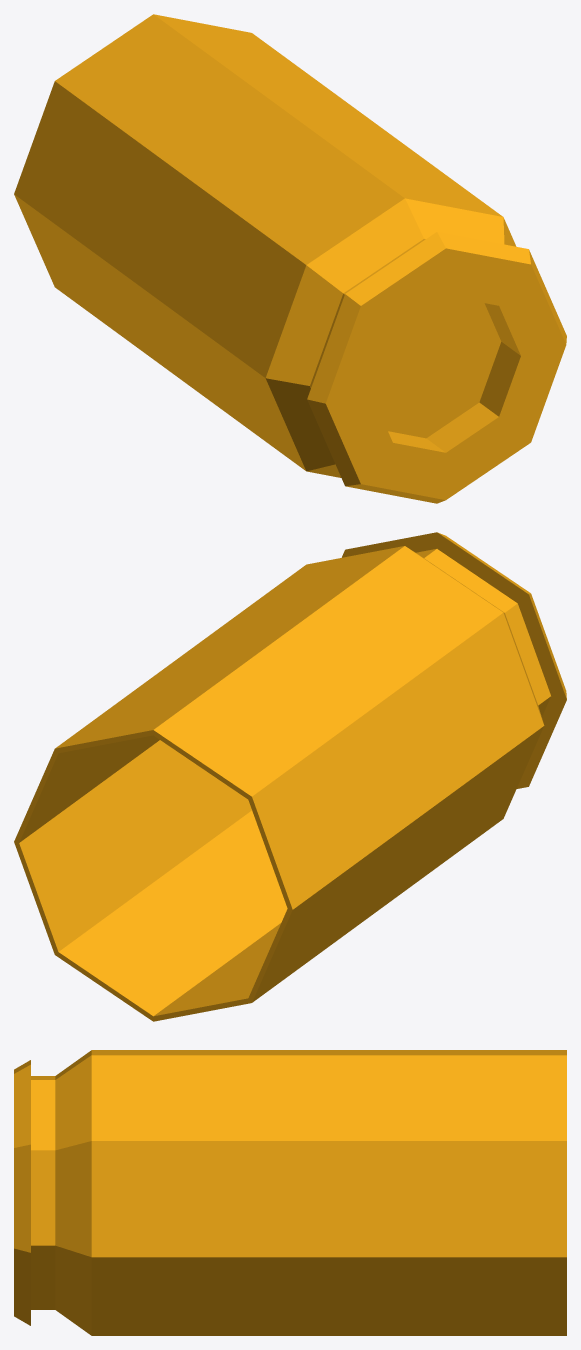
The model's file is case.glb.
3 views of the same model, one above another, from view 1: azimuth 30°, elevation 25°; view 2: azimuth 150°, elevation 25°; view 3: azimuth 270°, elevation 25° (orthographic). The views are drawn at different scales.
Parts seen in each view (by area): view 1: 45-acp-case; view 2: 45-acp-case; view 3: 45-acp-case.
Boxes of the visible parts, bbox=[...] form: 45-acp-case: bbox=[14, 14, 566, 503]; 45-acp-case: bbox=[14, 532, 566, 1021]; 45-acp-case: bbox=[14, 1050, 566, 1335].
Size of the model in its own units: 0.0123 by 0.0123 by 0.0223.
